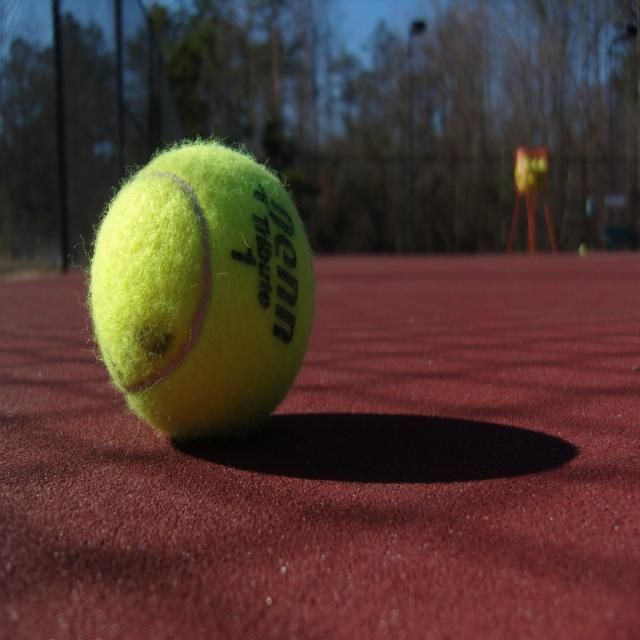Tennis ball: (74, 128, 318, 443)
